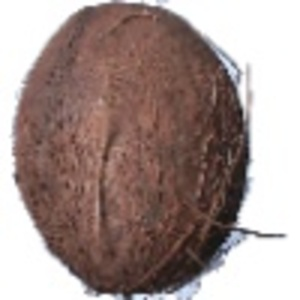coco: (1, 1, 285, 300)
